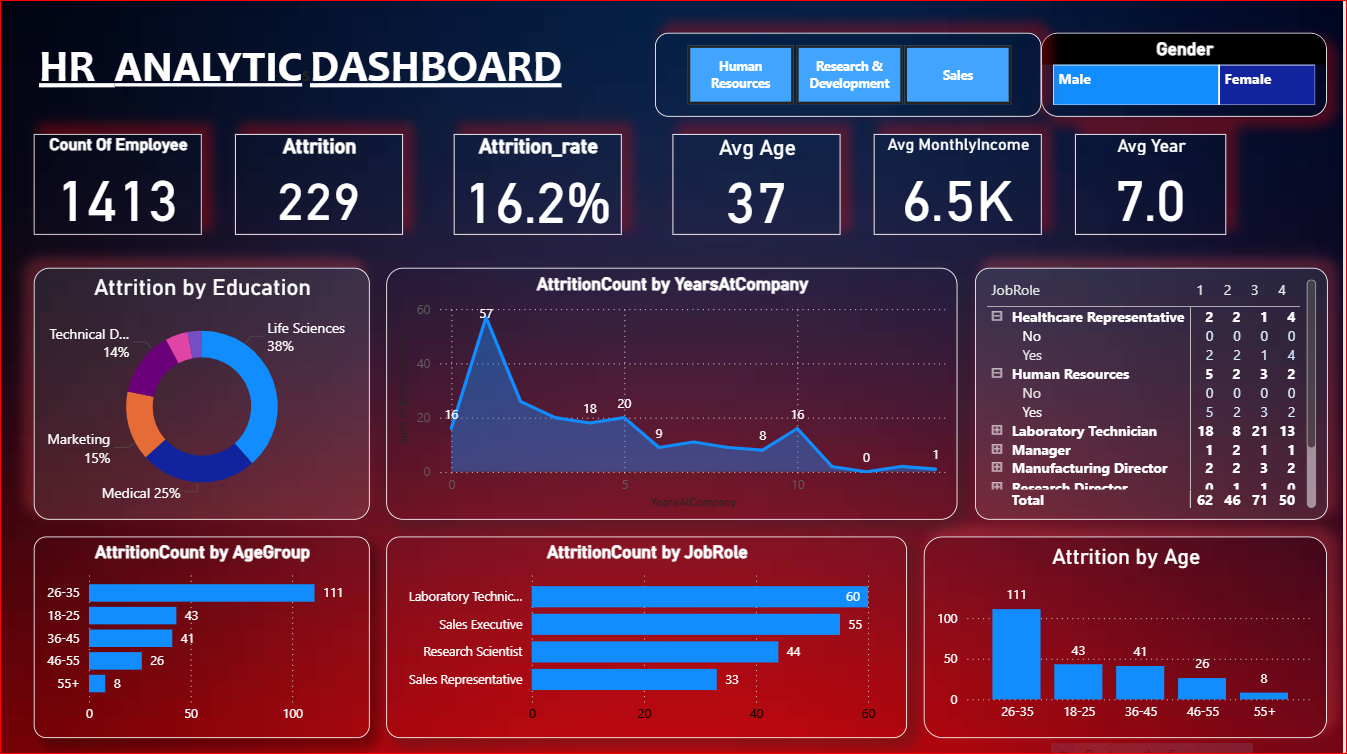

The dashboard page shown, as its layout file describes it:
{"tool":"powerbi","page":{"name":"Dashboard Overview","canvas":[1280,720],"ordinal":0},"visuals":[{"type":"card","title":"Count Of Employee","fields":{"Values":["CountNonNull(HR_Analytics.EmpID)"]},"box":[32,128,160,96],"z":0},{"type":"card","title":"Attrition","fields":{"Values":["Sum(HR_Analytics.AttritionCount)"]},"box":[224,128,160,96],"z":1000},{"type":"card","title":"Attrition_rate","fields":{"Values":["HR_Analytics.attritionrate"]},"box":[432,128,160,96],"z":2000},{"type":"card","title":"Avg Age","fields":{"Values":["Avg(HR_Analytics.Age)"]},"box":[640,128,160,96],"z":3000},{"type":"card","title":"Avg MonthlyIncome","fields":{"Values":["Avg(HR_Analytics.MonthlyIncome)"]},"box":[832,128,160,96],"z":4000},{"type":"card","title":"Avg Year","fields":{"Values":["Avg(HR_Analytics.YearsAtCompany)"]},"box":[1024,128,144,96],"z":5000},{"type":"donutChart","title":"Attrition by Education","fields":{"Category":["HR_Analytics.EducationField"],"Y":["Sum(HR_Analytics.AttritionCount)"]},"box":[32,256,320,240],"z":6000},{"type":"clusteredColumnChart","title":"Attrition by Age","fields":{"Category":["HR_Analytics.AgeGroup"],"Y":["Sum(HR_Analytics.AttritionCount)"]},"box":[880,512,384,192],"z":7000},{"type":"pivotTable","fields":{"Rows":["HR_Analytics.JobRole","HR_Analytics.Attrition"],"Columns":["HR_Analytics.JobSatisfaction"],"Values":["Sum(HR_Analytics.AttritionCount)"]},"box":[928,256,336,240],"z":8000},{"type":"barChart","title":"AttritionCount by AgeGroup","fields":{"Y":["Sum(HR_Analytics.AttritionCount)"],"Category":["HR_Analytics.AgeGroup"]},"box":[32,512,320,192],"z":9000},{"type":"barChart","title":"AttritionCount by JobRole","fields":{"Category":["HR_Analytics.JobRole"],"Y":["Sum(HR_Analytics.AttritionCount)"]},"box":[368,512,496,192],"z":10000},{"type":"areaChart","title":"AttritionCount by YearsAtCompany","fields":{"Y":["Sum(HR_Analytics.AttritionCount)"],"Category":["HR_Analytics.YearsAtCompany"]},"box":[368,256,544,240],"z":11000},{"type":"treemap","title":"Gender","fields":{"Group":["HR_Analytics.Gender"],"Values":["Sum(HR_Analytics.AttritionCount)"]},"box":[992,32,272,80],"z":12000},{"type":"textbox","box":[32,32,544,64],"z":13000},{"type":"slicer","fields":{"Values":["HR_Analytics.Department"]},"box":[624,32,368,80],"z":14000}]}

Visuals, with their boxes in screenshot pixels (x1, y1, x2, y2), scaled from the page's 1280x720 canvas onto the 1347x754 screenshot:
"Count Of Employee" card: box(34, 134, 202, 235)
"Attrition" card: box(236, 134, 404, 235)
"Attrition_rate" card: box(455, 134, 623, 235)
"Avg Age" card: box(674, 134, 842, 235)
"Avg MonthlyIncome" card: box(876, 134, 1044, 235)
"Avg Year" card: box(1078, 134, 1229, 235)
"Attrition by Education" donutChart: box(34, 268, 370, 519)
"Attrition by Age" clusteredColumnChart: box(926, 536, 1330, 737)
pivotTable - HR_Analytics.JobRole x HR_Analytics.Attrition: box(977, 268, 1330, 519)
"AttritionCount by AgeGroup" barChart: box(34, 536, 370, 737)
"AttritionCount by JobRole" barChart: box(387, 536, 909, 737)
"AttritionCount by YearsAtCompany" areaChart: box(387, 268, 960, 519)
"Gender" treemap: box(1044, 34, 1330, 117)
textbox: box(34, 34, 606, 101)
slicer - HR_Analytics.Department: box(657, 34, 1044, 117)
